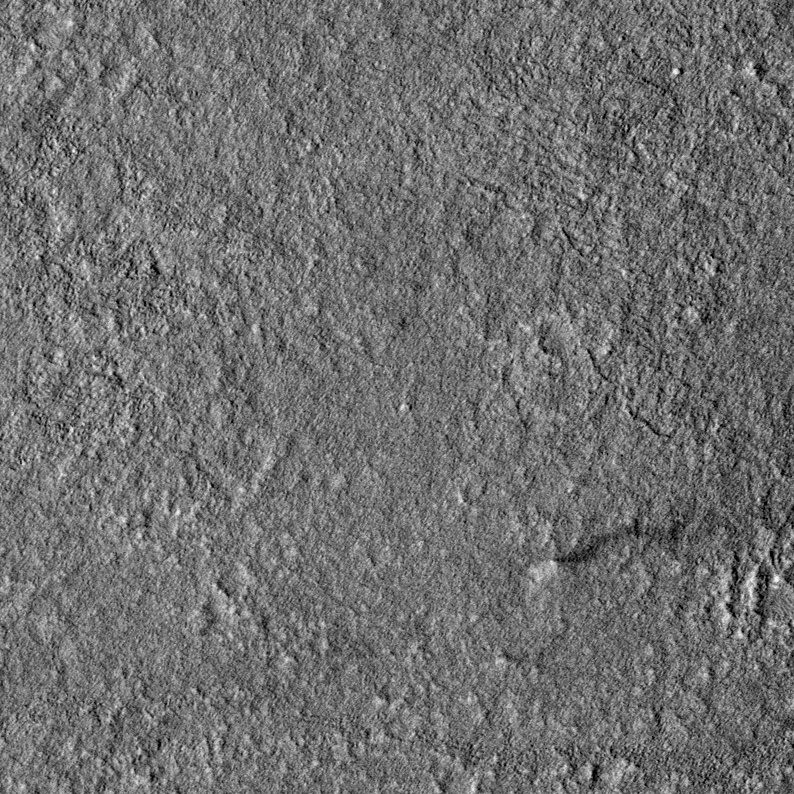dust_devil: (524, 515, 690, 596)
